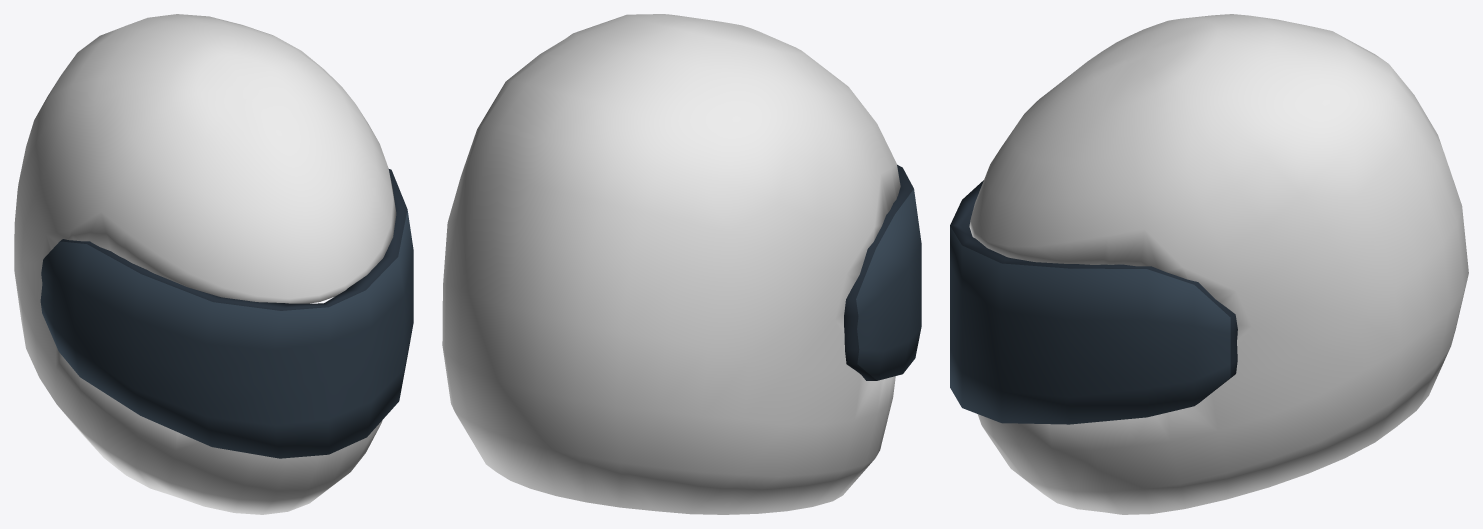
The model's file is racingHelmet.gltf.
3 renders of one model, left to right at view 1: azimuth 30°, elevation 25°; view 2: azimuth 150°, elevation 25°; view 3: azimuth 270°, elevation 25°, orthographic. The views are drawn at different scales.
Parts seen in each view (by area): view 1: racingHelmet, racingHelmetVisor; view 2: racingHelmet, racingHelmetVisor; view 3: racingHelmet, racingHelmetVisor.
Boxes of the visible parts, bbox=[...] form: racingHelmet: bbox=[14, 14, 396, 514]; racingHelmetVisor: bbox=[40, 169, 413, 458]; racingHelmet: bbox=[442, 14, 900, 514]; racingHelmetVisor: bbox=[844, 164, 921, 380]; racingHelmet: bbox=[969, 14, 1468, 514]; racingHelmetVisor: bbox=[950, 180, 1237, 424].
Size of the model in its own units: 1.16 by 1.39 by 1.44.
